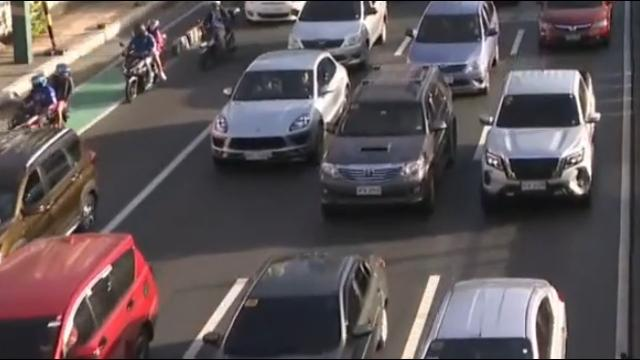car: (315, 64, 458, 217), (0, 227, 161, 360), (201, 248, 392, 360), (0, 122, 99, 253), (420, 276, 568, 360), (407, 3, 503, 92), (284, 0, 390, 64), (532, 1, 617, 50), (240, 1, 307, 21)
motorcycle: (214, 49, 353, 173), (9, 63, 74, 136), (119, 16, 168, 105), (198, 2, 239, 71)
pickup-truck: (478, 62, 596, 210)
